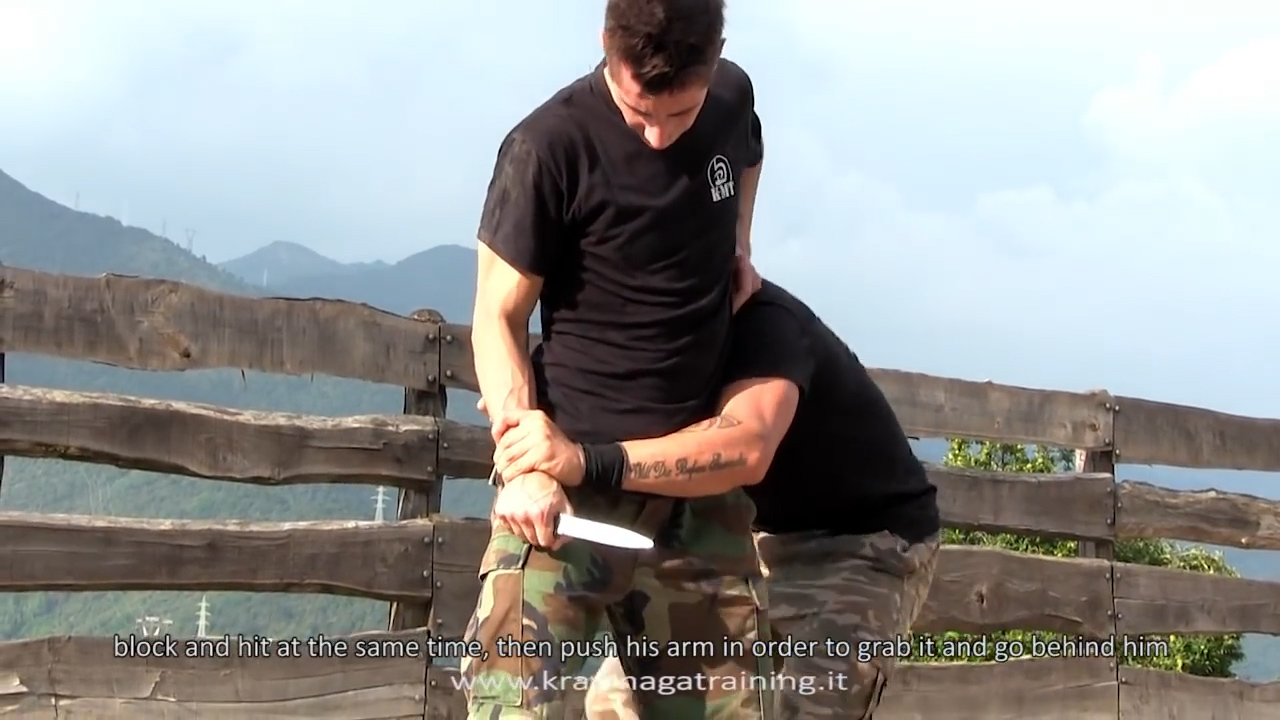knife: (483, 485, 664, 562)
